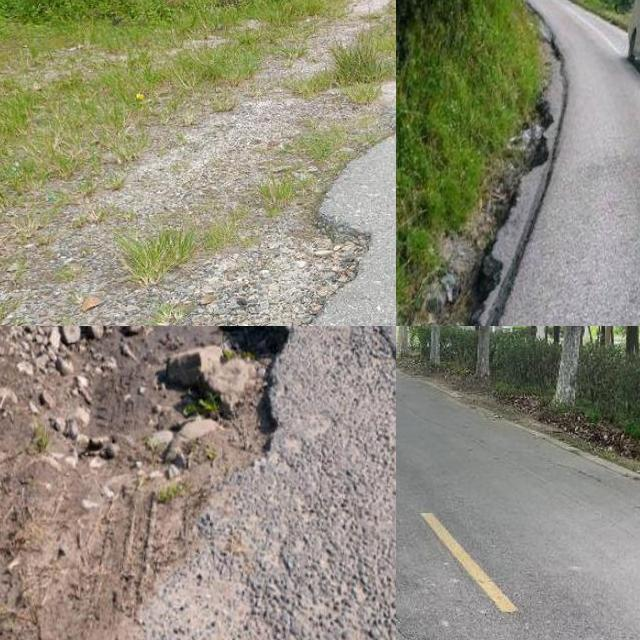Pinggir: (409, 52, 578, 326), (257, 73, 396, 326), (125, 326, 296, 508)
